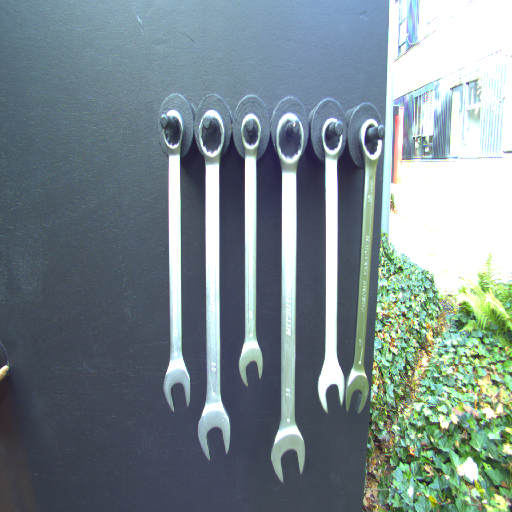bottom: (268, 428, 308, 482), (196, 406, 234, 461), (315, 361, 346, 413), (161, 363, 192, 413), (236, 343, 266, 389), (341, 370, 370, 415)
top: (194, 108, 226, 162), (274, 112, 304, 167), (159, 109, 187, 155), (320, 115, 348, 161), (237, 111, 265, 156), (358, 116, 383, 166)
